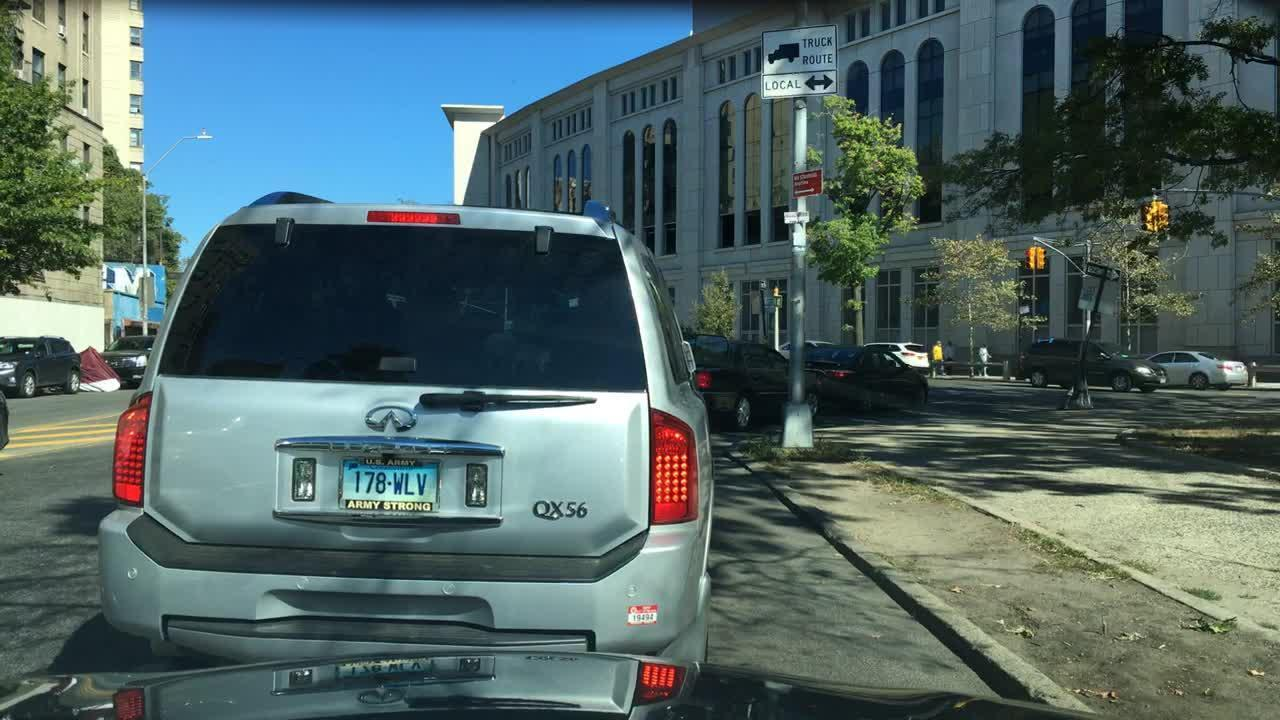Infiniti: (363, 400, 425, 440)
